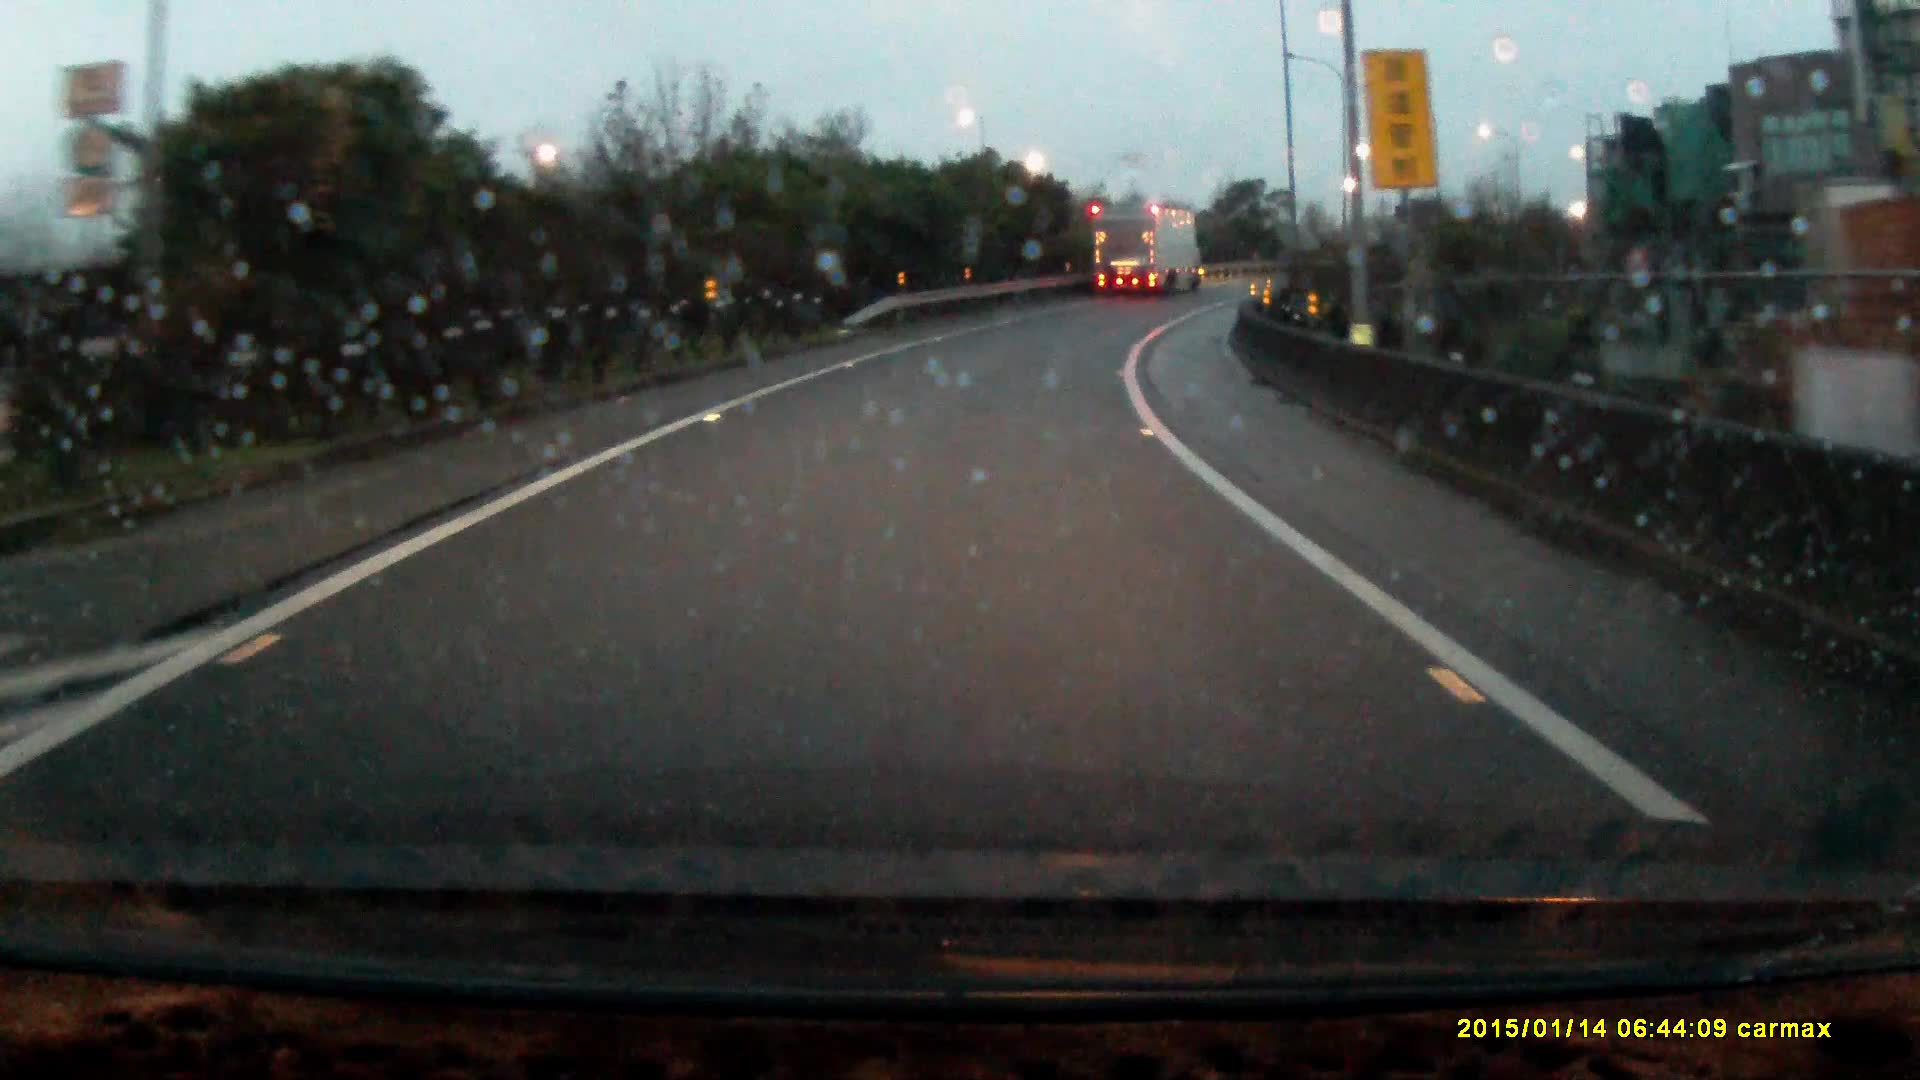vehicle: (1091, 200, 1204, 297)
